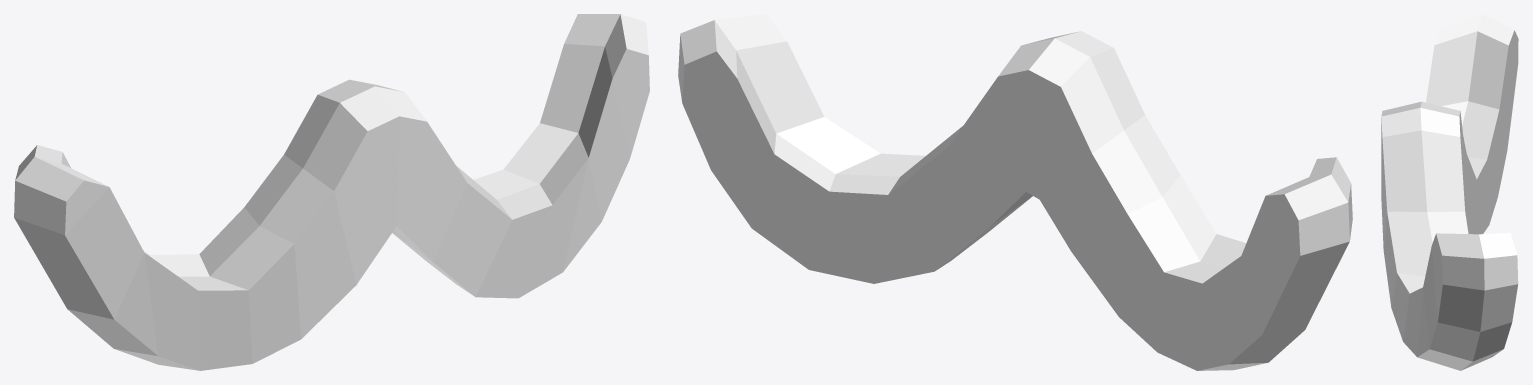
Rendered from mouth_03.fbx.
The picture shows the model from 3 angles, left to right: view 1: azimuth 30°, elevation 25°; view 2: azimuth 150°, elevation 25°; view 3: azimuth 270°, elevation 25°; orthographic projection. The views are drawn at different scales.
Parts seen in each view (by area): view 1: Mouth_03; view 2: Mouth_03; view 3: Mouth_03.
Part boxes in pixels (x1,y1,x2,y2): Mouth_03: (14,14,649,370); Mouth_03: (678,14,1352,370); Mouth_03: (1381,14,1518,370).
Size of the model in its own units: 38 by 14.25 by 9.15.
